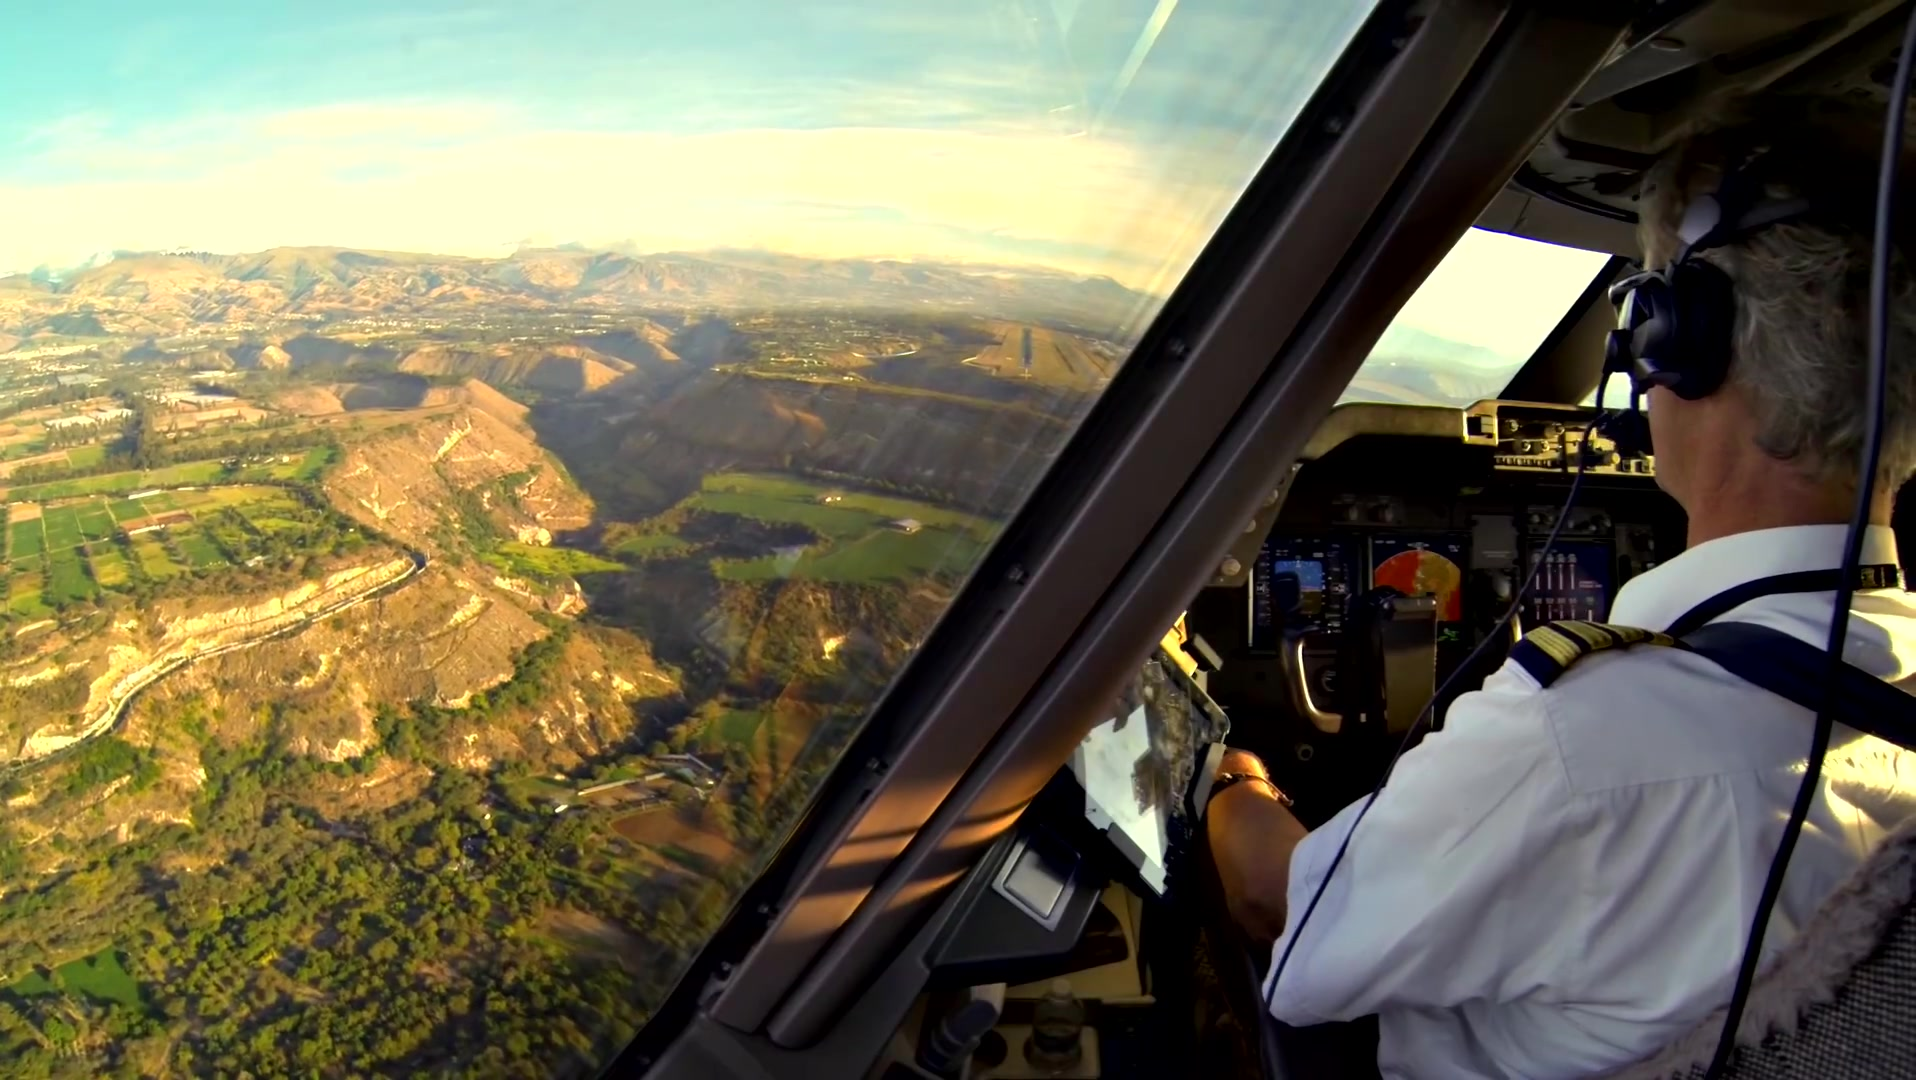runway: (1019, 326, 1036, 374)
